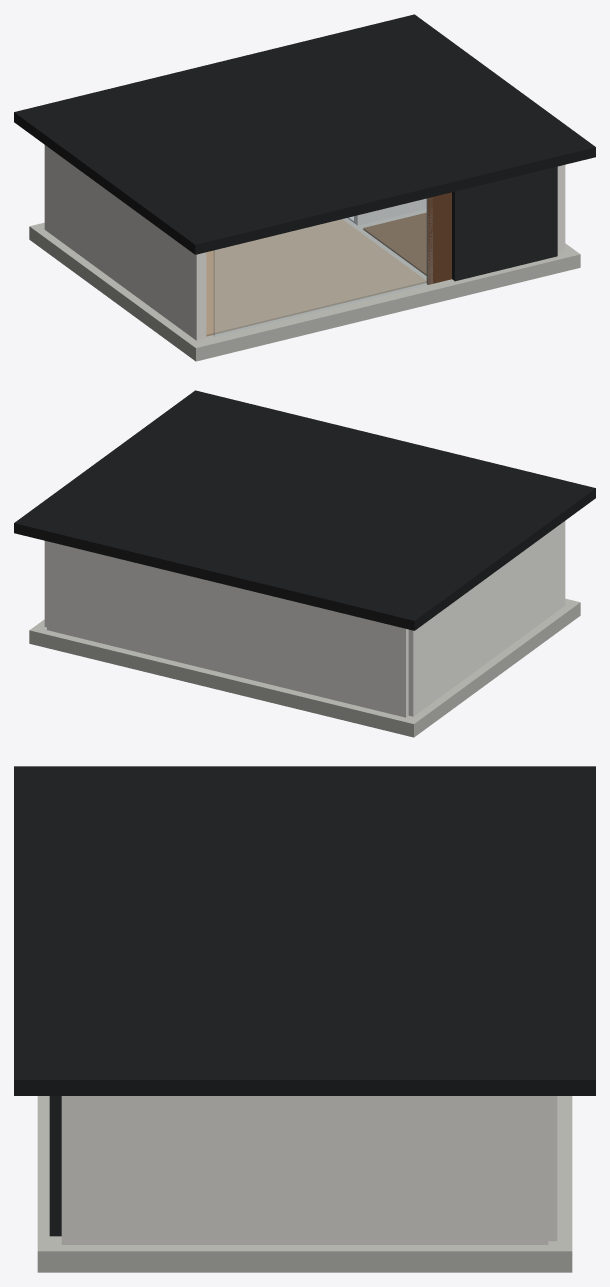
Rendered from minimalist-studio.glb.
The picture shows the model from 3 angles, top to bottom: view 1: azimuth 30°, elevation 25°; view 2: azimuth 150°, elevation 25°; view 3: azimuth 270°, elevation 25°; orthographic projection. The views are drawn at different scales.
Visible parts, largest first — view 1: Roof_Main, Glass_Windows, Floor_Living, Wall_Exterior_Main (×2), Foundation_Base, Wall_Exterior_Accent, Door_Entrance, Deck_Patio, Wall_Bathroom; view 2: Roof_Main, Wall_Exterior_Main (×2), Foundation_Base; view 3: Roof_Main, Wall_Exterior_Main (×2), Foundation_Base, Wall_Exterior_Accent.
Part boxes in pixels (box(x1,y1,x2,y2)): Roof_Main: box(14, 14, 595, 254); Glass_Windows: box(213, 198, 432, 336); Floor_Living: box(206, 219, 426, 336); Wall_Exterior_Main (×2): box(44, 145, 565, 340); Foundation_Base: box(29, 209, 580, 361); Wall_Exterior_Accent: box(452, 166, 557, 281); Door_Entrance: box(426, 192, 451, 284); Deck_Patio: box(363, 212, 426, 275); Wall_Bathroom: box(354, 198, 426, 225); Roof_Main: box(14, 390, 595, 630); Wall_Exterior_Main (×2): box(47, 521, 565, 717); Foundation_Base: box(29, 598, 580, 737); Roof_Main: box(14, 766, 595, 1095); Wall_Exterior_Main (×2): box(61, 1096, 557, 1244); Foundation_Base: box(37, 1096, 572, 1272); Wall_Exterior_Accent: box(49, 1096, 61, 1236).
Size of the model in its own units: 12.5 by 3.7 by 9.8.
